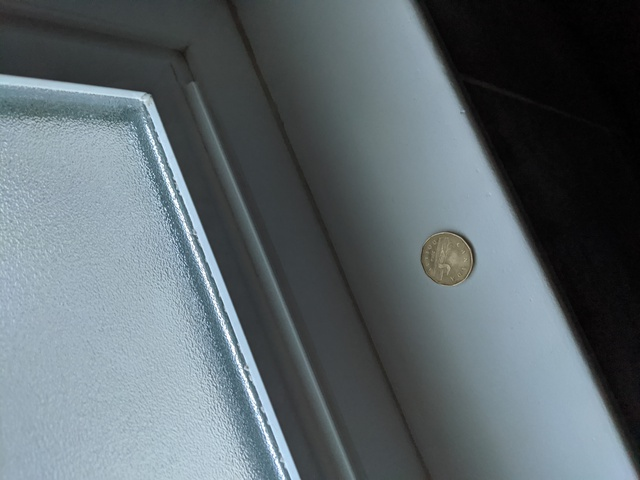loonie: (411, 224, 481, 291)
